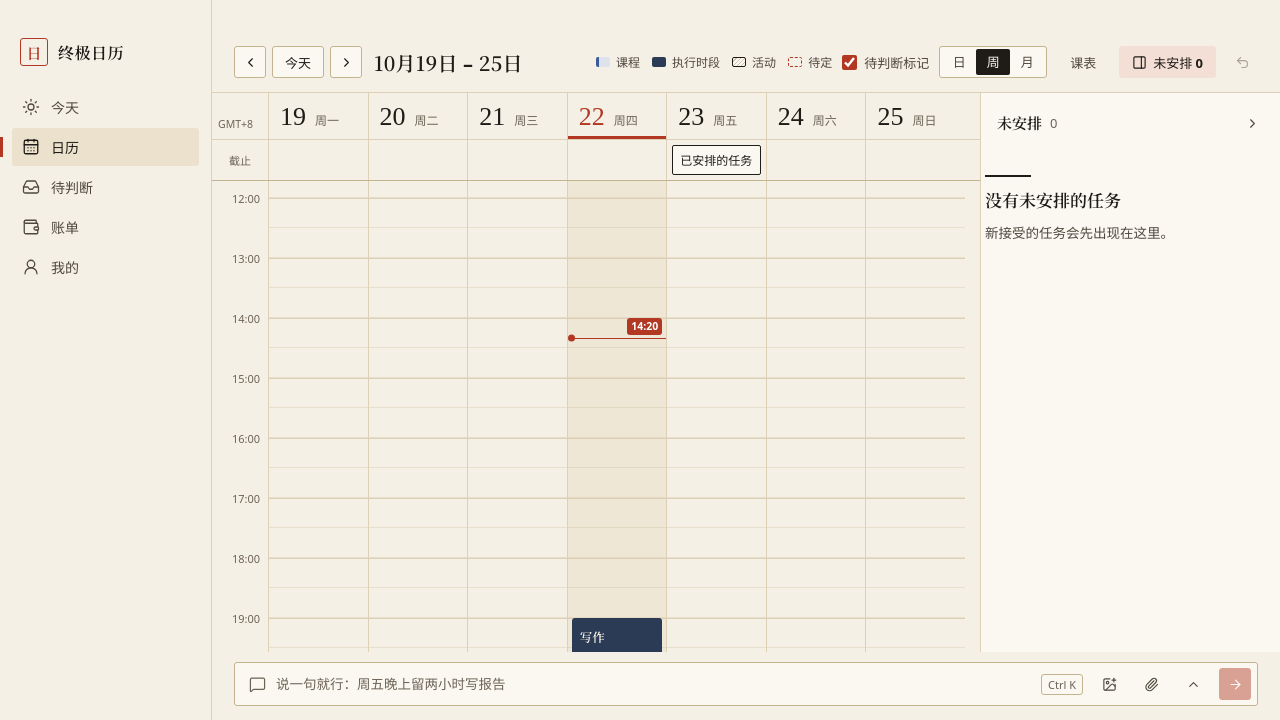
collapses into the toolbar toggle and shows a plain empty state
(page scrolled)
Check: the heading "没有未安排的任务" is shown, box [985,187,1121,212]
Click the button named "收起未安排": (1252, 123) [1236,107,1268,139]
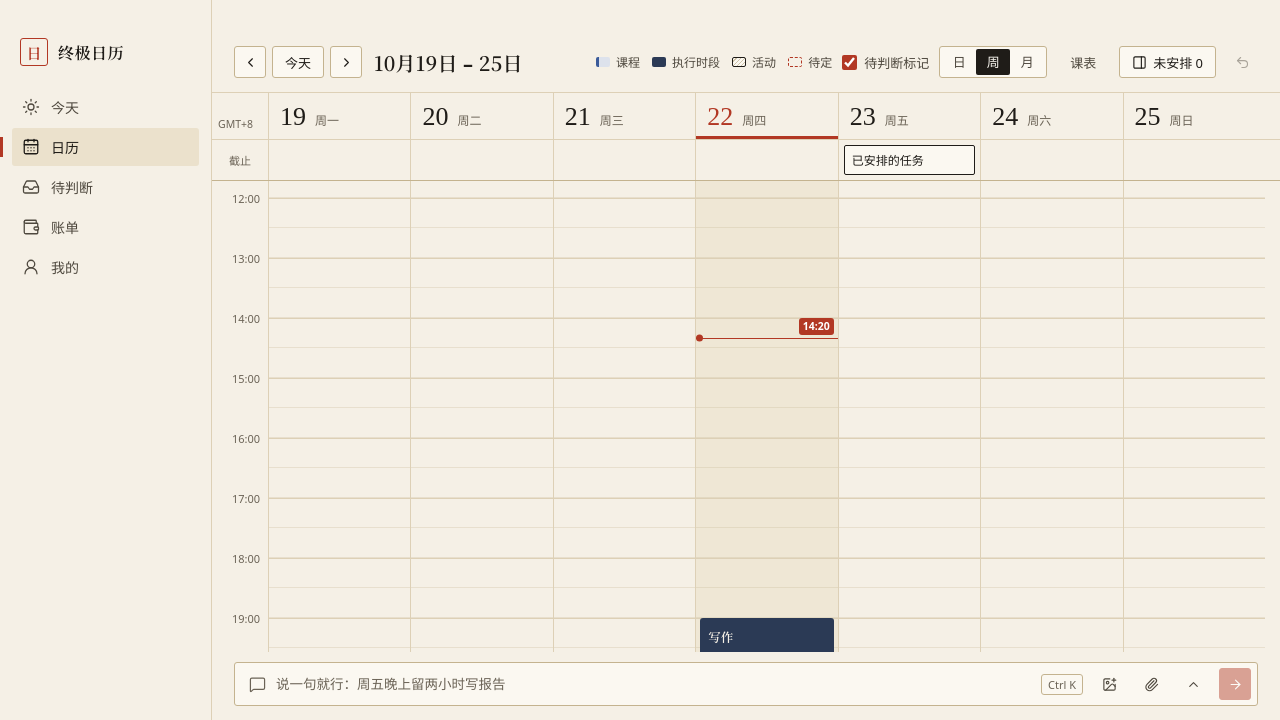
Check: the element "未安排任务" is gone
Click the button "未安排 0": (1168, 62) [1119,46,1216,78]
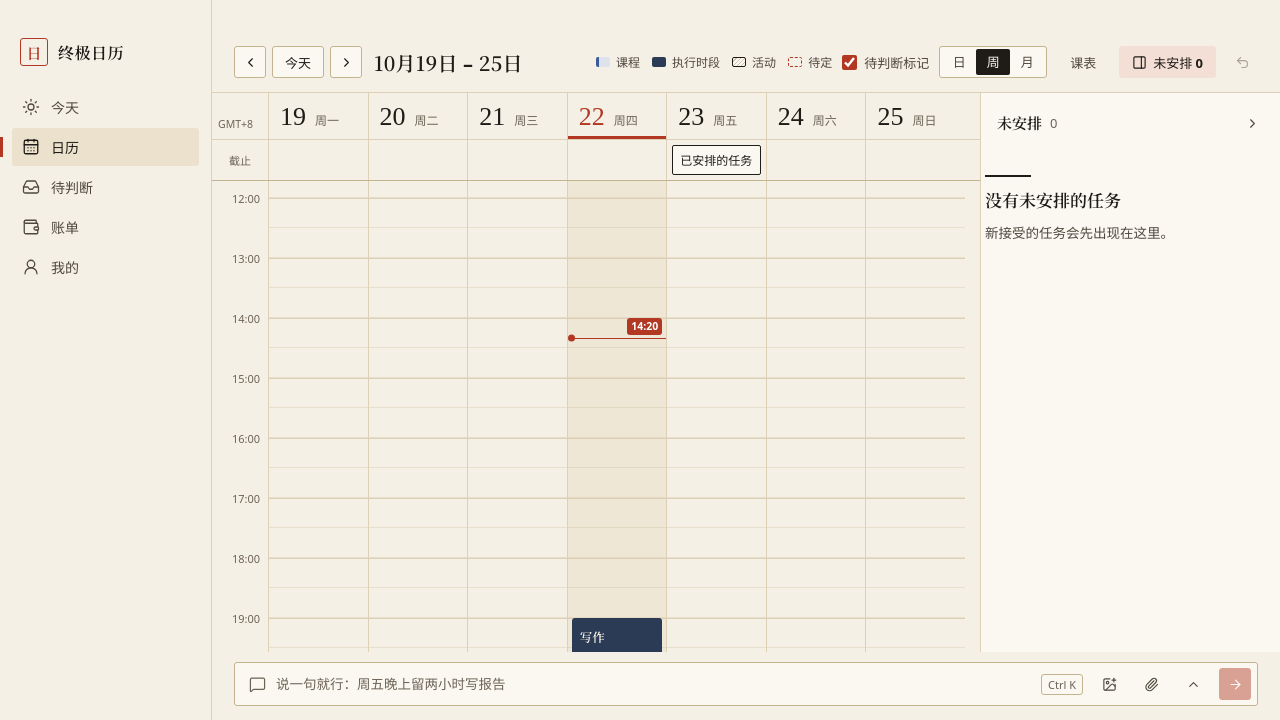
Check: the element named "未安排任务" is shown, box [980,93,1279,652]
